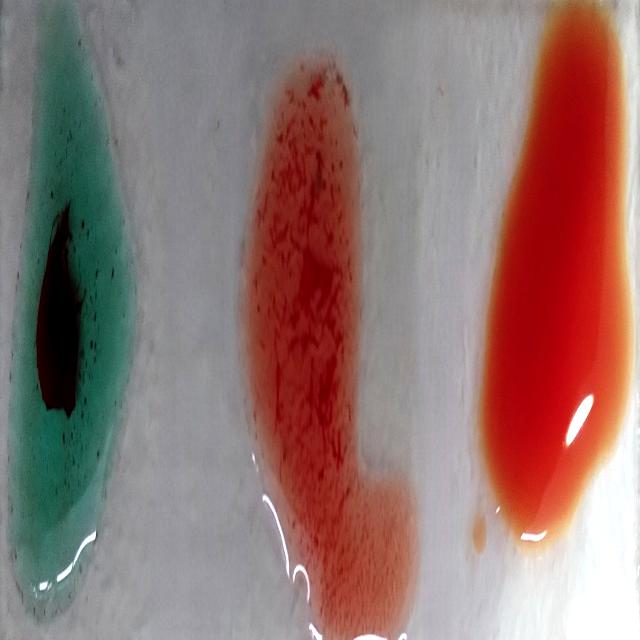A: (2, 23, 134, 601)
D: (237, 70, 404, 640)
